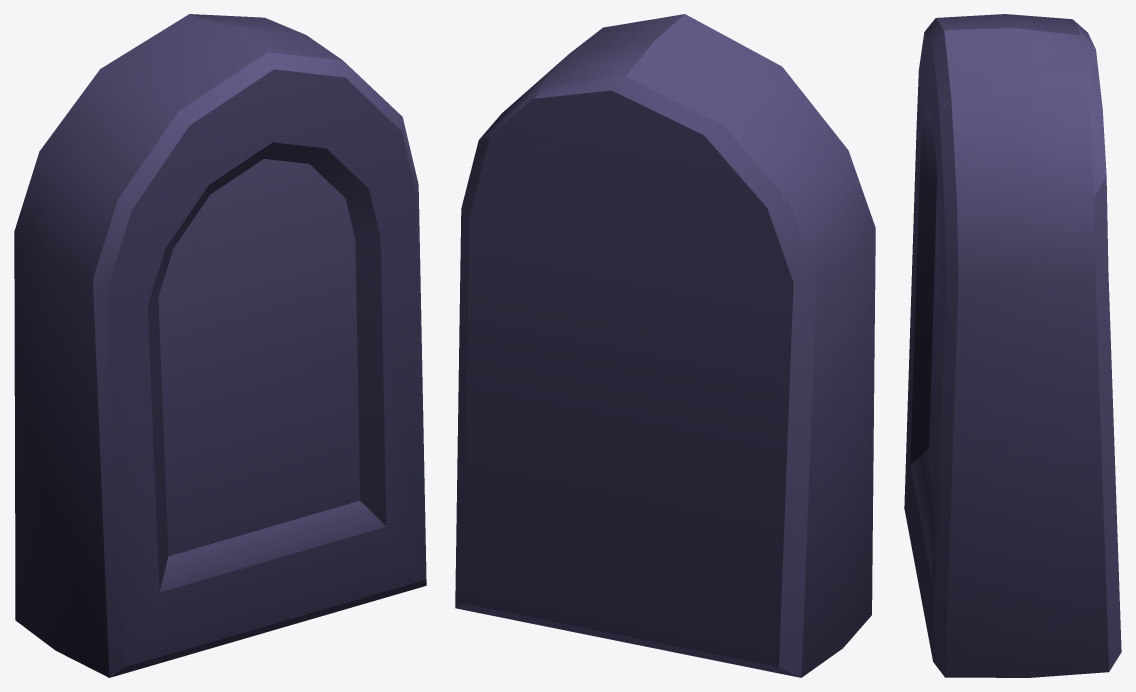
Rendered from prop_tomb_1.glb.
3 renders of one model, left to right at view 1: azimuth 30°, elevation 25°; view 2: azimuth 150°, elevation 25°; view 3: azimuth 270°, elevation 25°, orthographic.
Parts seen in each view (by area): view 1: prop_tomb_1; view 2: prop_tomb_1; view 3: prop_tomb_1.
Part boxes in pixels (box(x1,y1,x2,y2)): prop_tomb_1: box(14, 14, 426, 677); prop_tomb_1: box(455, 14, 875, 677); prop_tomb_1: box(904, 14, 1121, 677).
Size of the model in its own units: 1.75 by 2.7 by 0.9333.
Materials: 1 (1 with a texture image).
